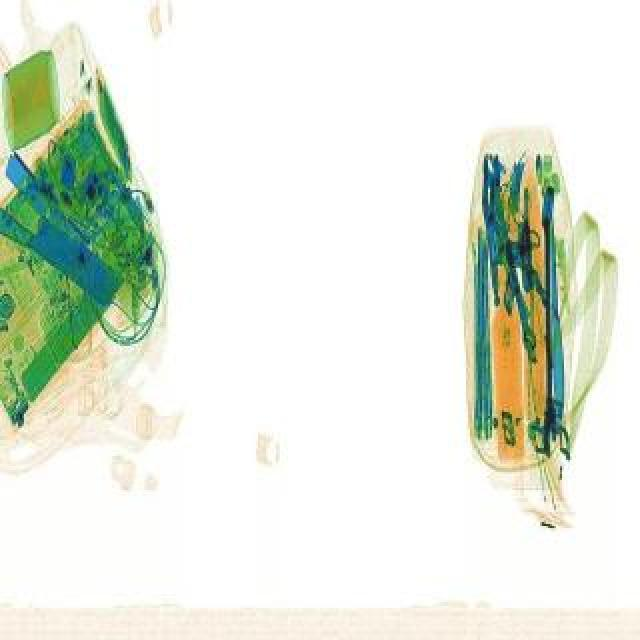gun: (504, 188, 532, 272)
knife: (0, 198, 128, 304)
scissors: (478, 150, 542, 352)
